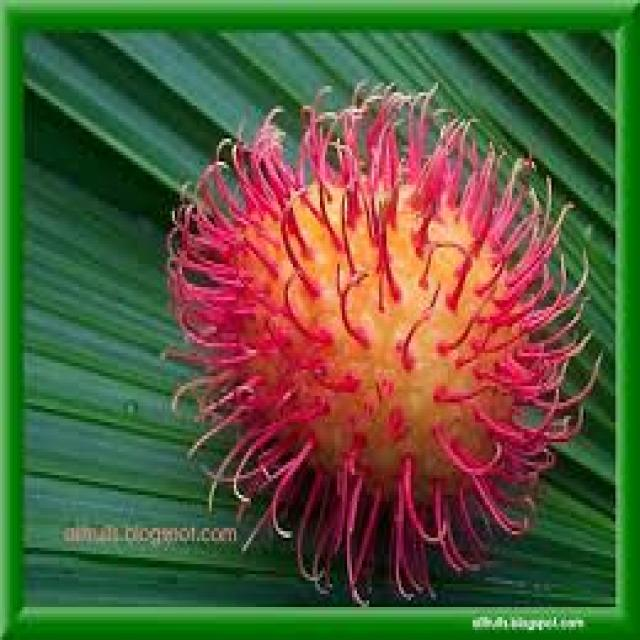Organik: (172, 83, 582, 582)
